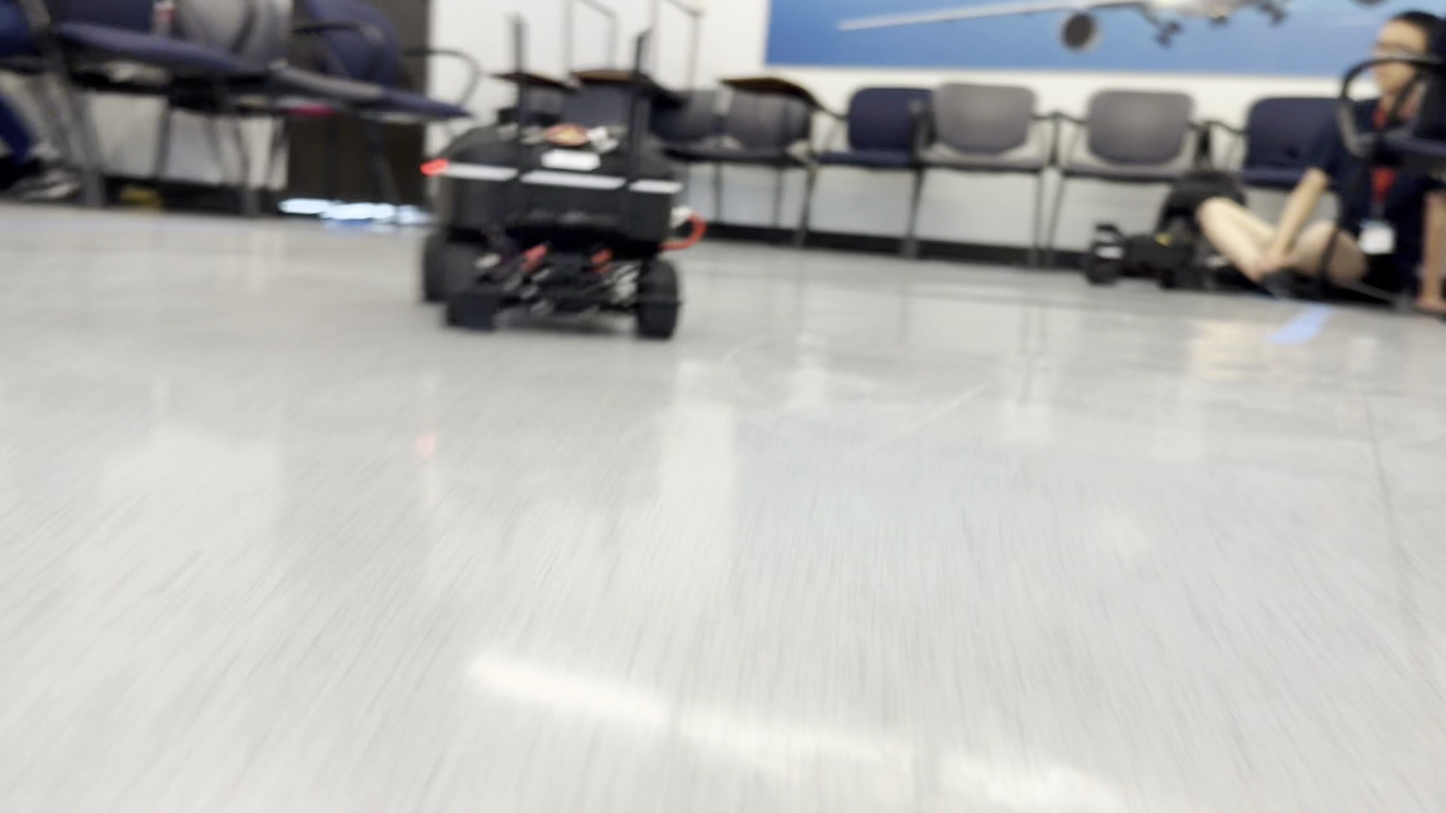racecar: (421, 112, 689, 338)
